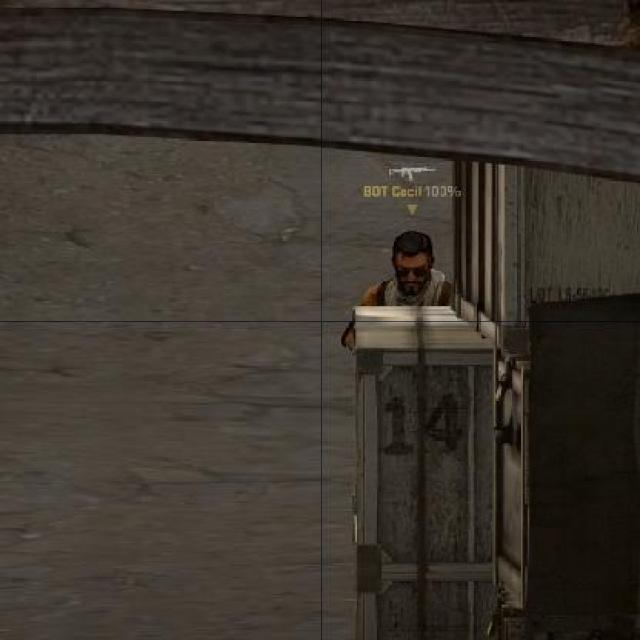Dead: (384, 226, 440, 300)
